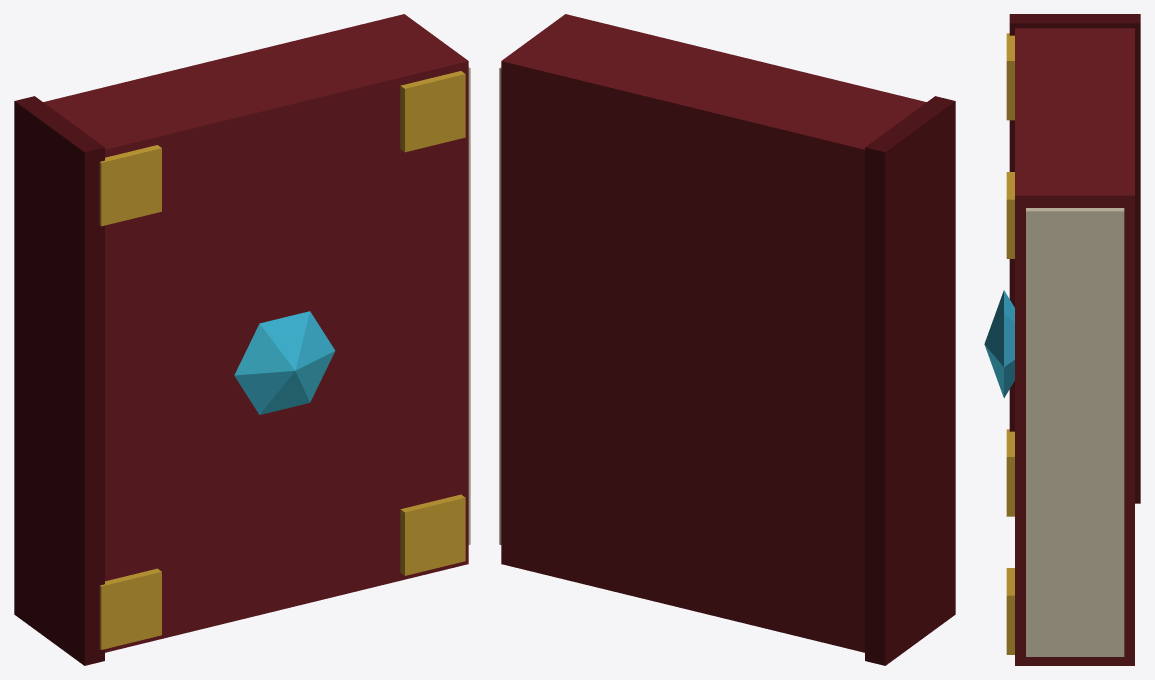
Rendered from i_tome.glb.
The picture shows the model from 3 angles, left to right: view 1: azimuth 30°, elevation 25°; view 2: azimuth 150°, elevation 25°; view 3: azimuth 270°, elevation 25°; orthographic projection. The views are drawn at different scales.
Parts seen in each view (by area): view 1: i_tome; view 2: i_tome; view 3: i_tome.
Part boxes in pixels (bbox=[...]): i_tome: bbox=[14, 14, 470, 665]; i_tome: bbox=[499, 14, 955, 665]; i_tome: bbox=[984, 14, 1140, 665].
Size of the model in its own units: 0.78 by 0.97 by 0.286.
